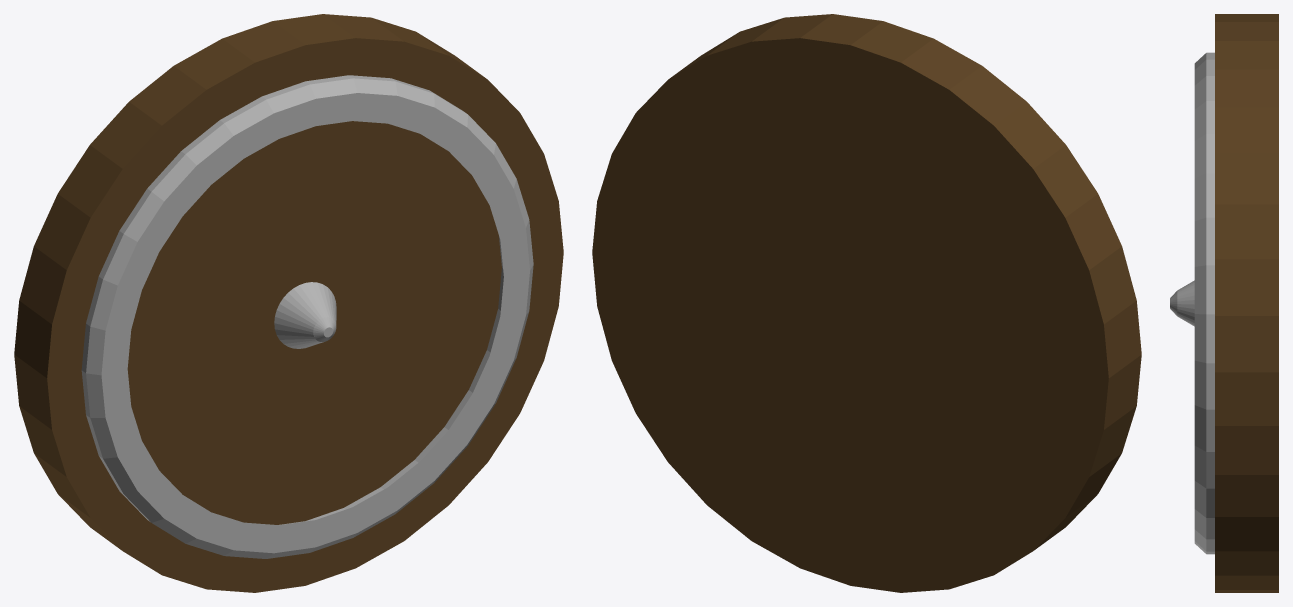
File: escudo.fbx
The picture shows the model from 3 angles, left to right: view 1: azimuth 30°, elevation 25°; view 2: azimuth 150°, elevation 25°; view 3: azimuth 270°, elevation 25°; orthographic projection. The views are drawn at different scales.
Parts seen in each view (by area): view 1: Circle; view 2: Circle; view 3: Circle.
Boxes of the visible parts, x1,y1,x2,y2 form: Circle: [14, 14, 563, 592]; Circle: [592, 14, 1141, 592]; Circle: [1170, 14, 1278, 592].
Size of the model in its own units: 4.56 by 4.56 by 0.8569.
